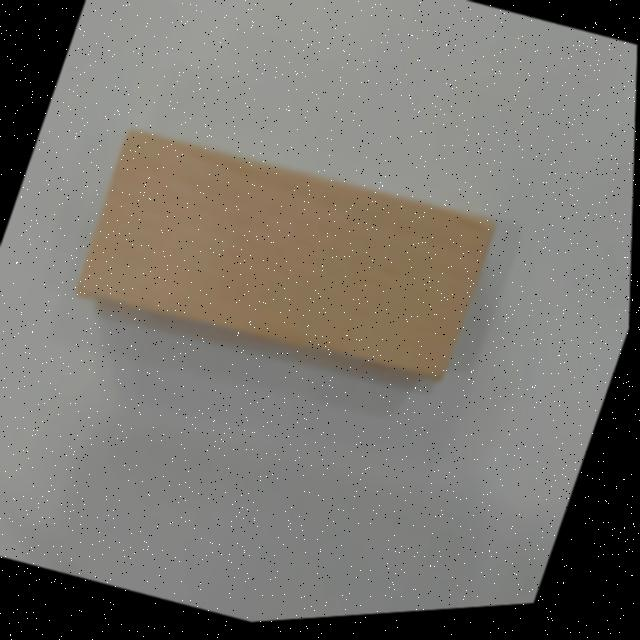Jenga: (63, 101, 512, 427)
